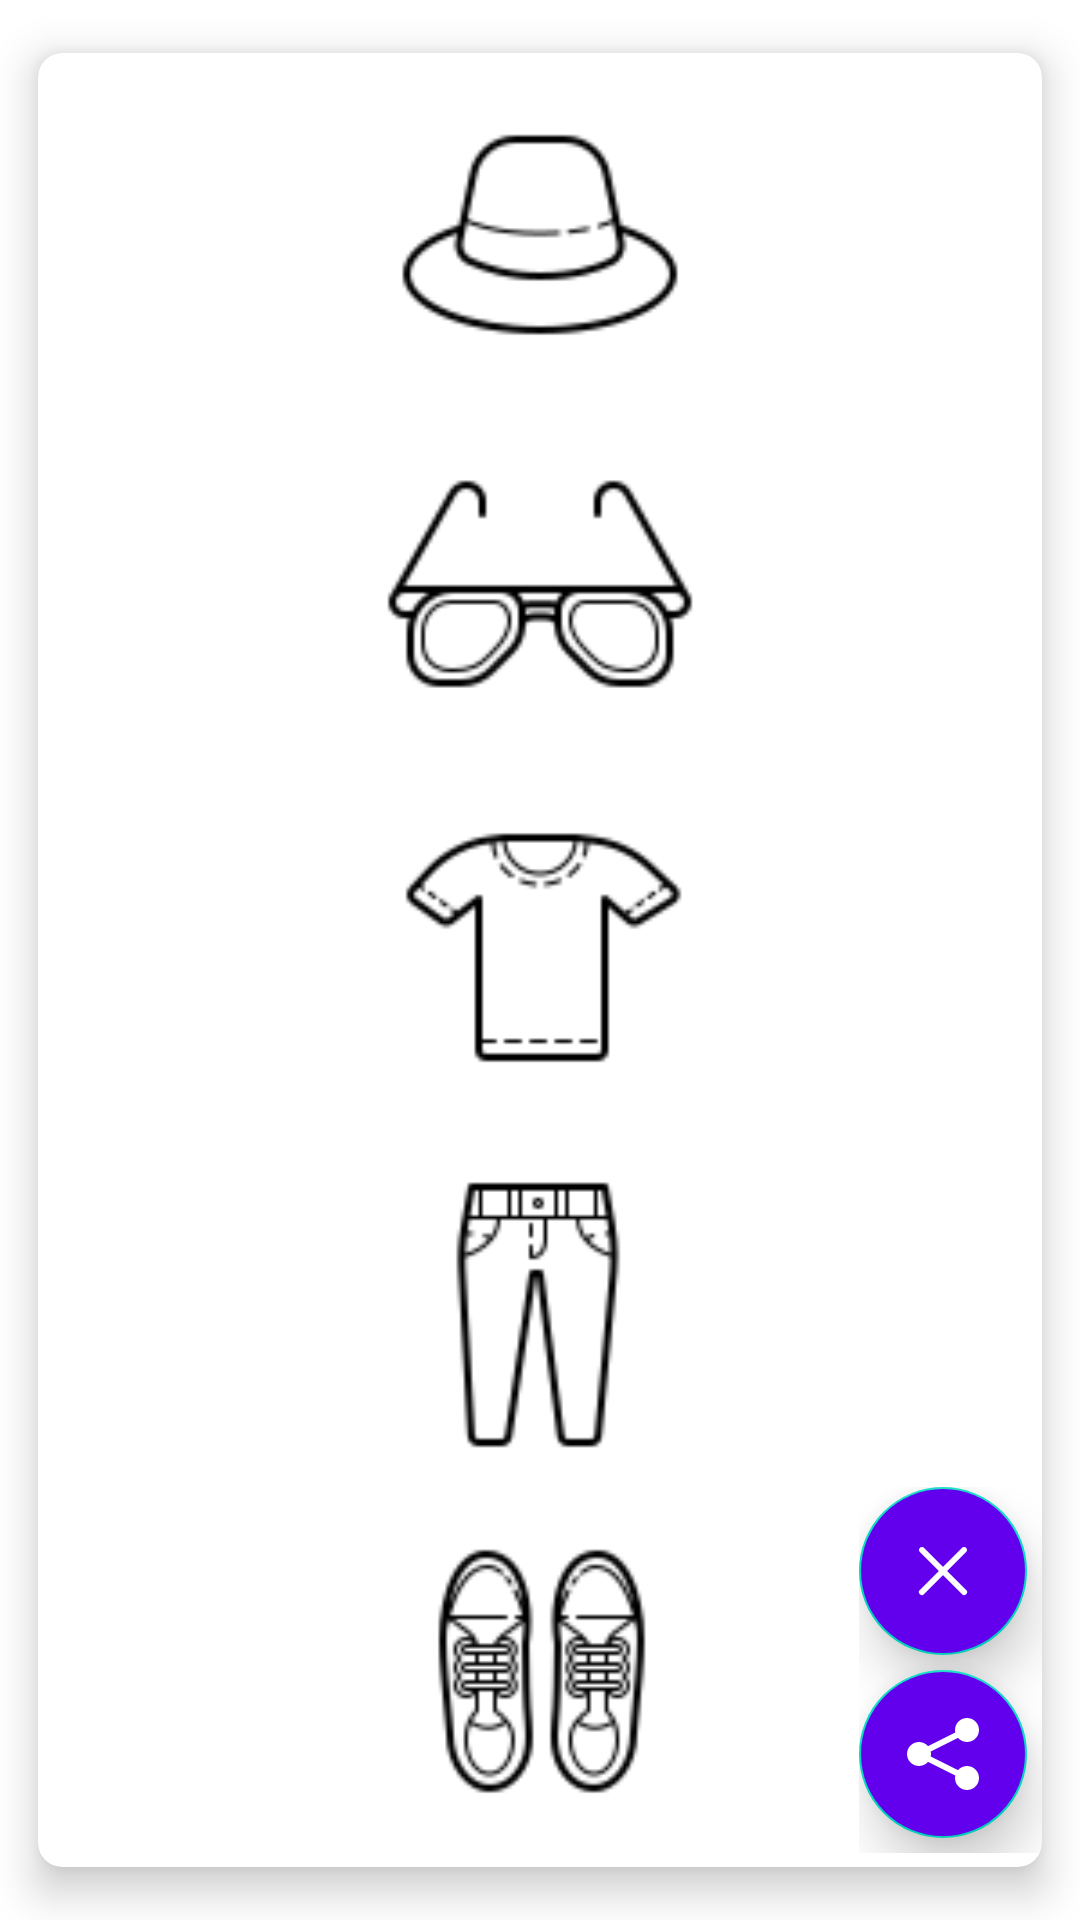

Point at icon controls on the screen. Image size 1080 x 1920, points as point (x, y).
delete: point (943, 1571)
face: point (540, 584)
feet: point (542, 1671)
head: point (540, 234)
lower body: point (538, 1315)
share: point (943, 1754)
upper body: point (543, 947)
